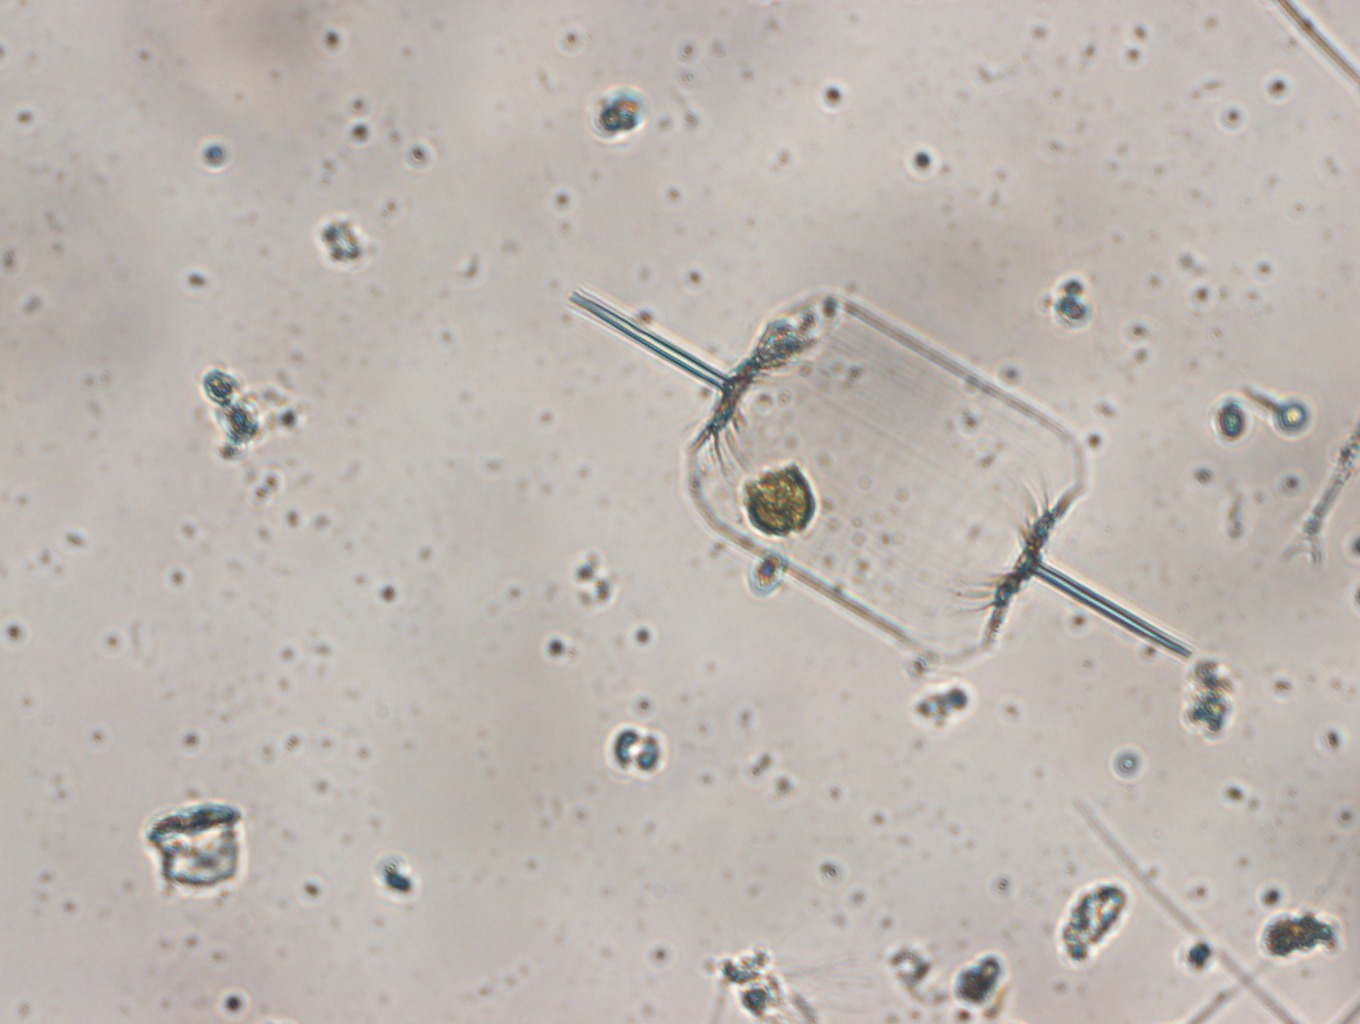ditylum: (564, 280, 1203, 671)
